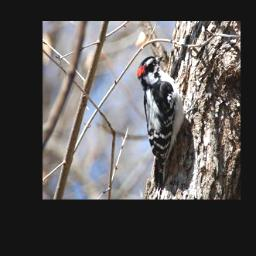Woodpecker: (135, 52, 186, 190)
